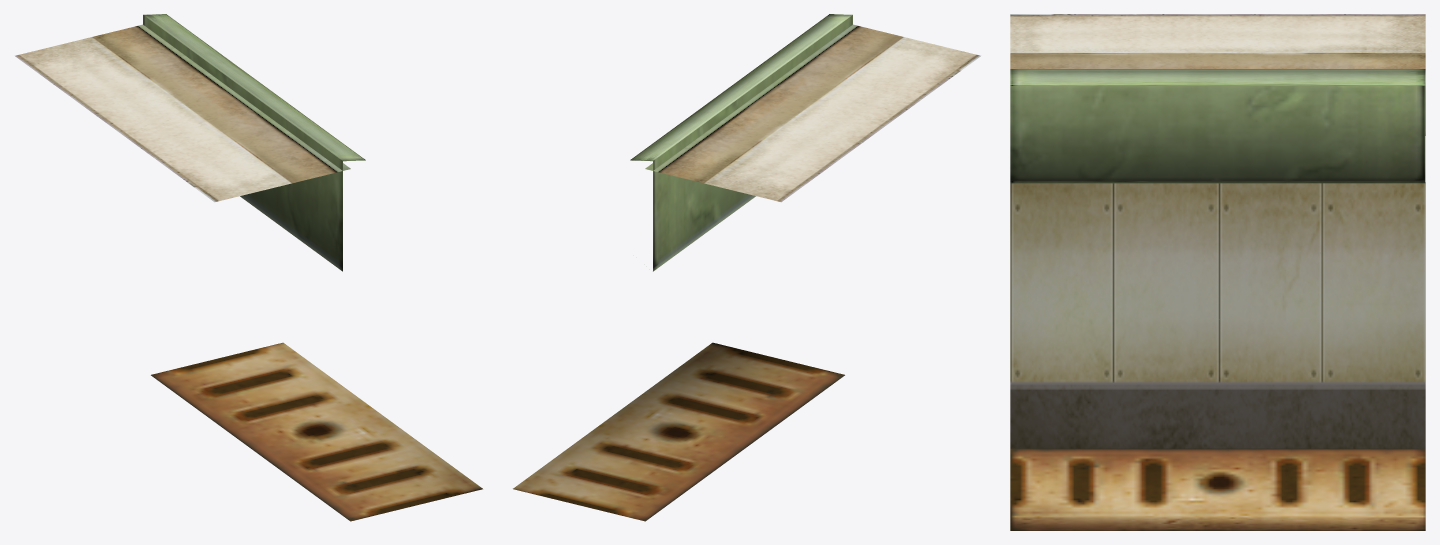
The model's file is a_SEbasket05_1.glb.
3 views of the same model, side by side, from view 1: azimuth 30°, elevation 25°; view 2: azimuth 150°, elevation 25°; view 3: azimuth 270°, elevation 25° (orthographic). The views are drawn at different scales.
Parts seen in each view (by area): view 1: a_SEbasket05_1; view 2: a_SEbasket05_1; view 3: a_SEbasket05_1.
Boxes of the visible parts, left/top/right/bottom form: a_SEbasket05_1: left=15, top=14, right=482, bottom=521; a_SEbasket05_1: left=513, top=14, right=980, bottom=521; a_SEbasket05_1: left=1010, top=14, right=1425, bottom=530.
Bounding box in the file's own units: 1.56 × 2.09 × 2.02.
Materials: 2 (2 with a texture image).
